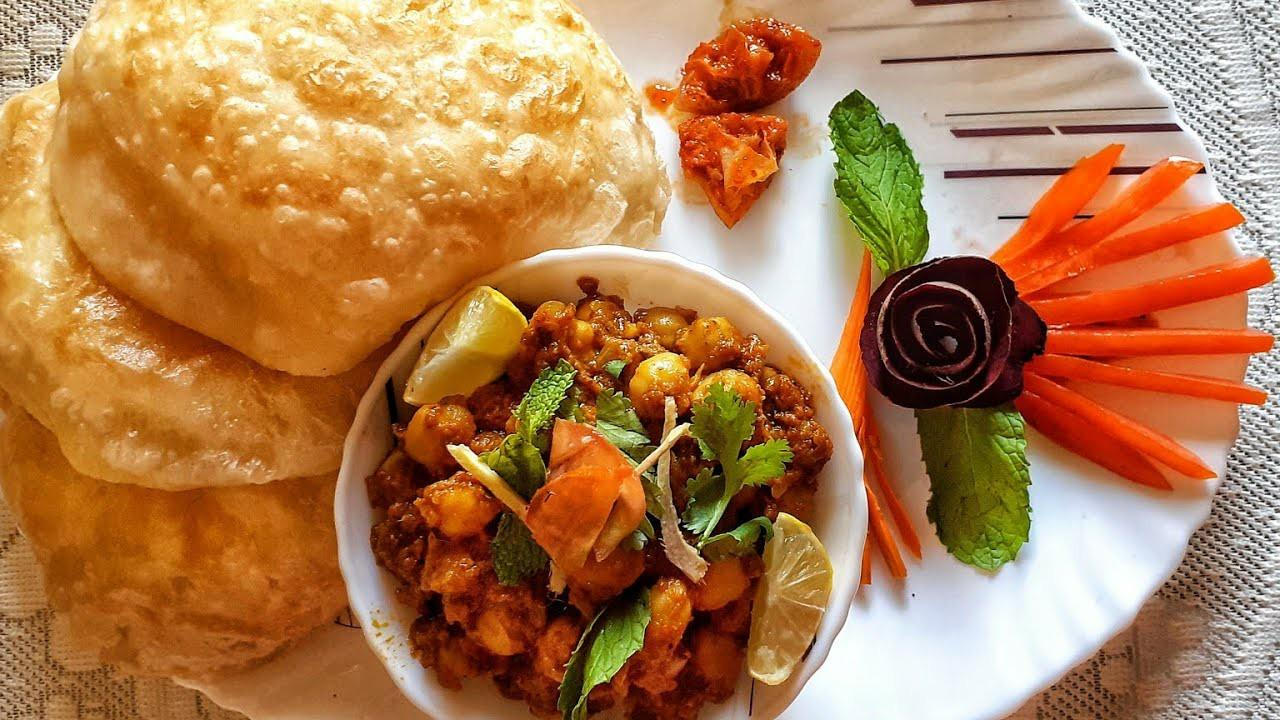Bhatura: (46, 0, 676, 374), (0, 73, 401, 490), (0, 389, 348, 677)
Chole: (363, 292, 832, 720)
